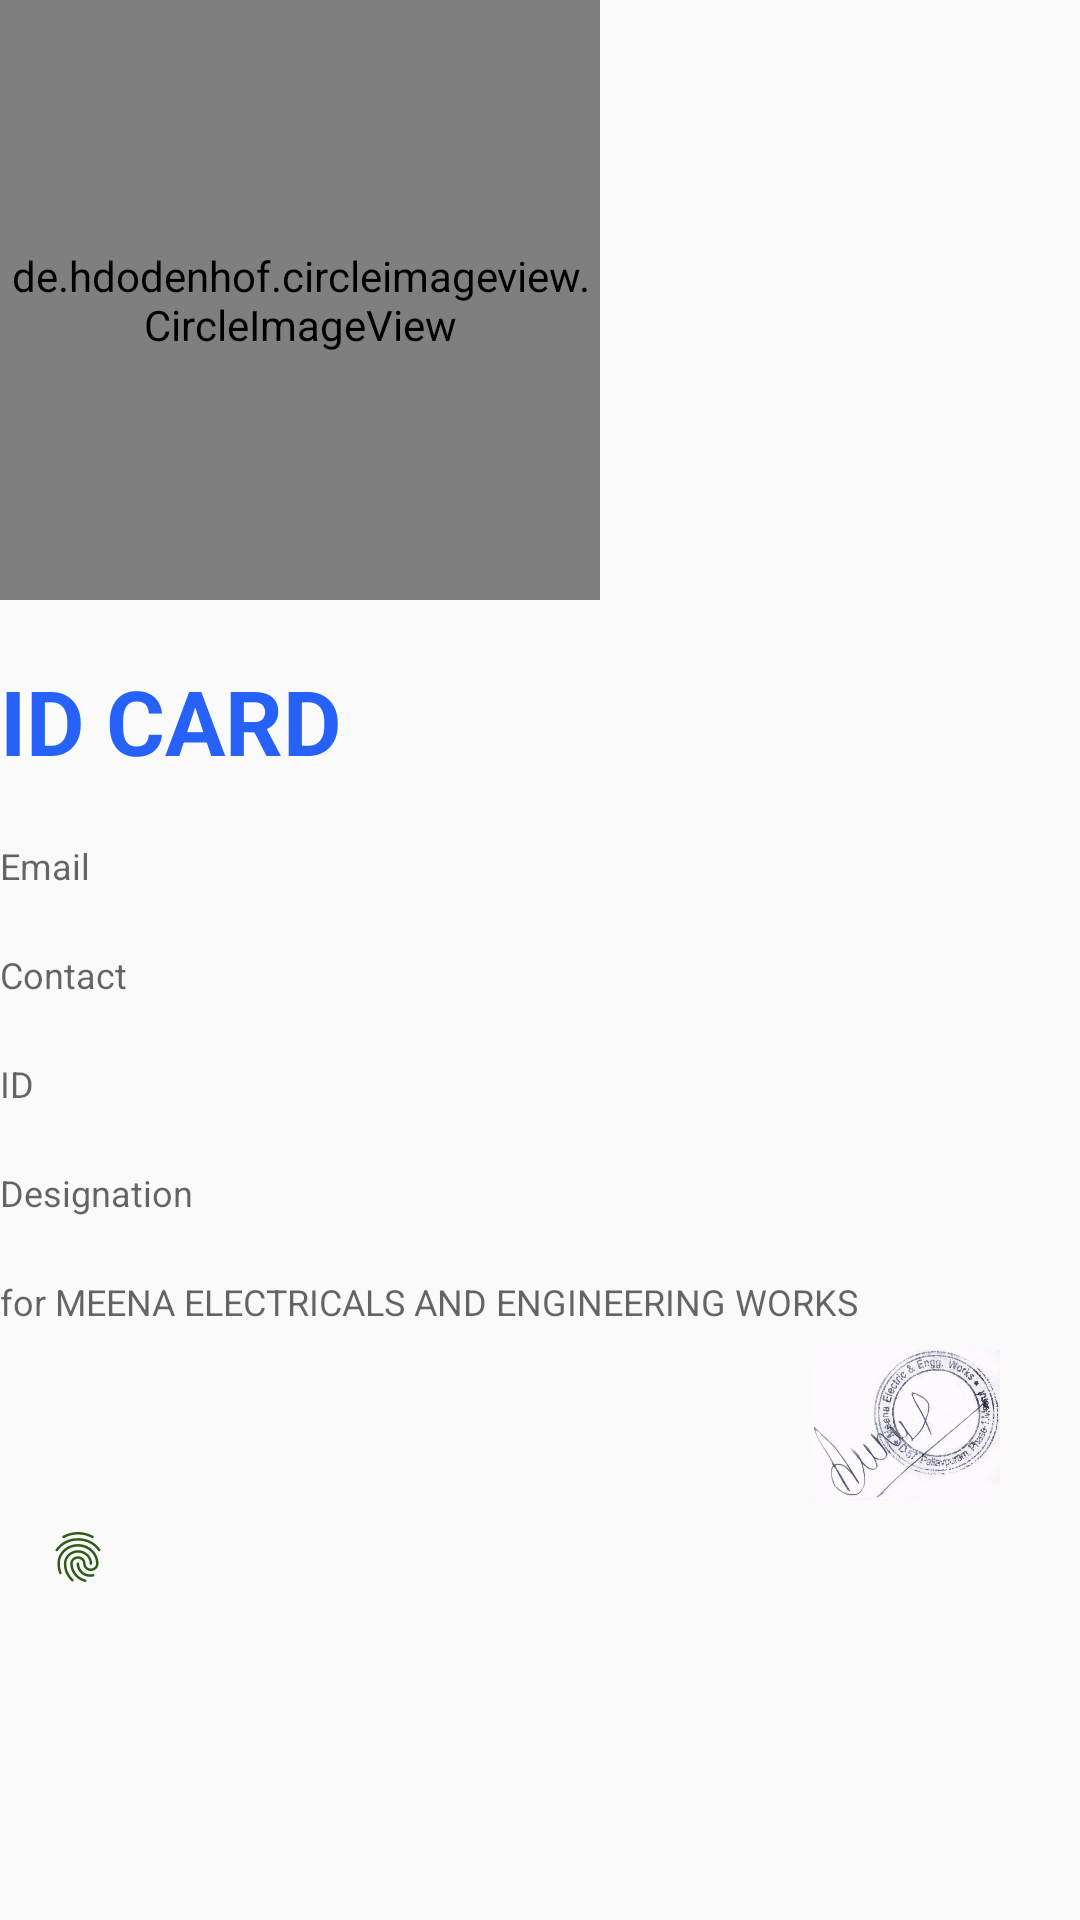

Screen size 1080 × 1920. Icon name, then its box in pixels as (x1, y1, x2, y2):
fingerprintgreen: (55, 1532, 101, 1582)
stamp: (814, 1351, 998, 1497)
